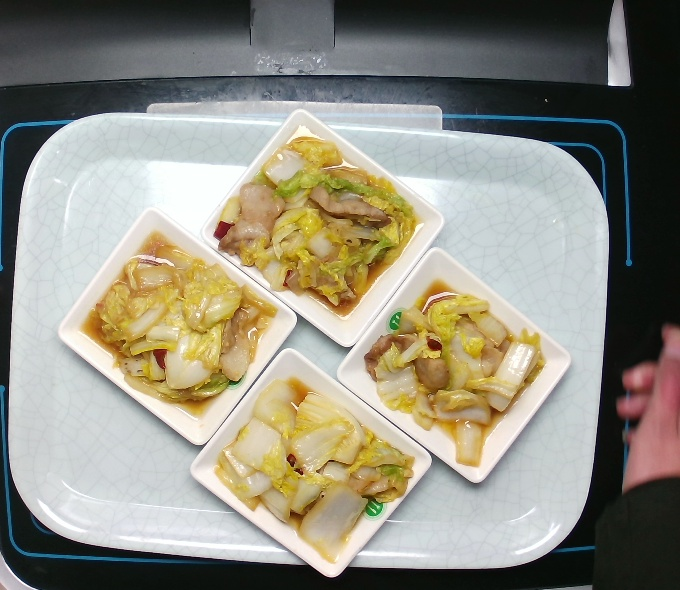wcq-DaBaiCaiRouPian: (212, 129, 424, 312), (79, 232, 275, 424), (215, 362, 411, 554), (356, 275, 552, 467)
